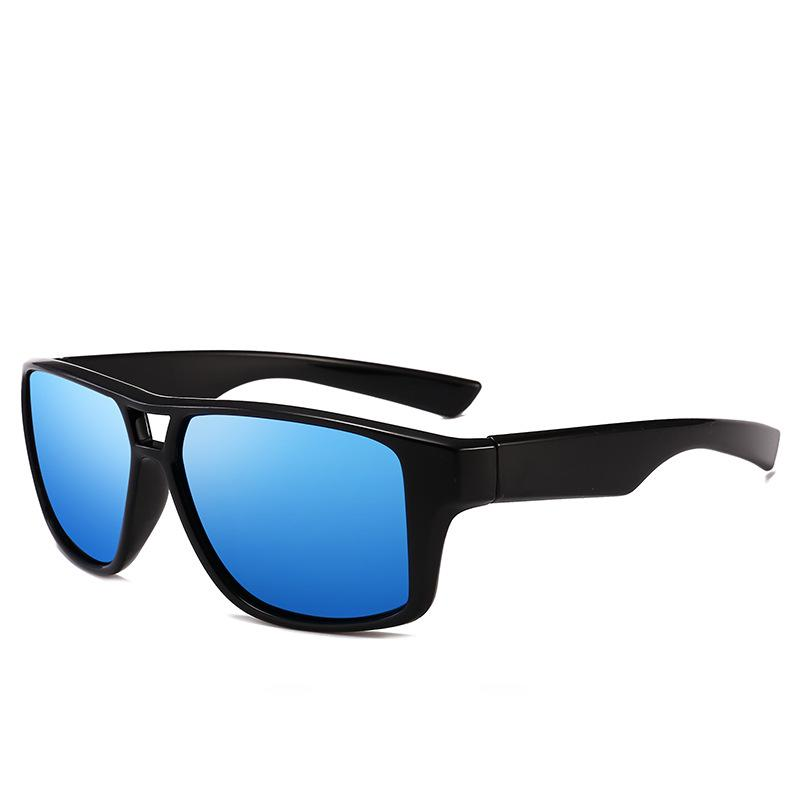sunglasses: (15, 323, 793, 661)
